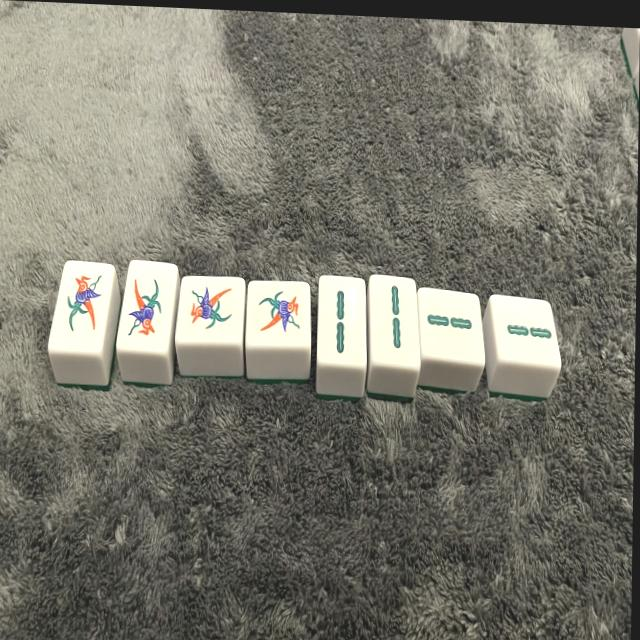s1: (52, 260, 116, 352), (116, 264, 176, 353), (175, 275, 245, 344), (246, 281, 312, 348)
s2: (491, 298, 564, 366), (369, 277, 422, 368), (419, 292, 486, 362), (319, 277, 369, 367)
